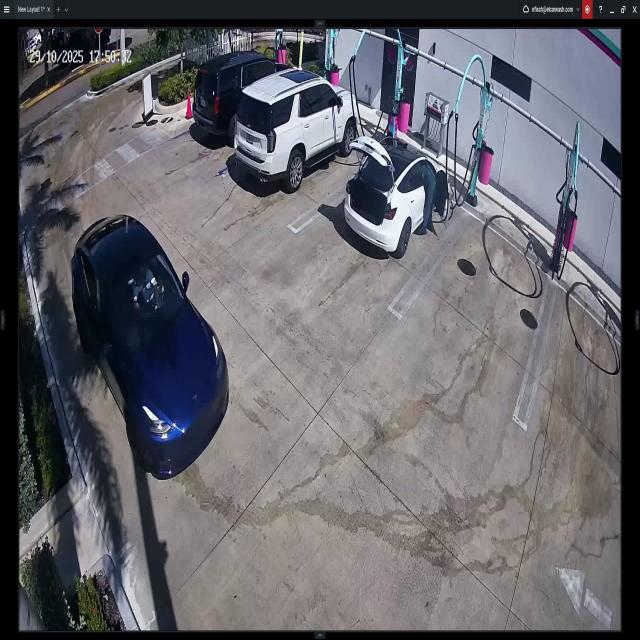Car: (70, 214, 230, 476), (236, 68, 358, 207), (348, 133, 450, 262), (194, 53, 296, 148)
